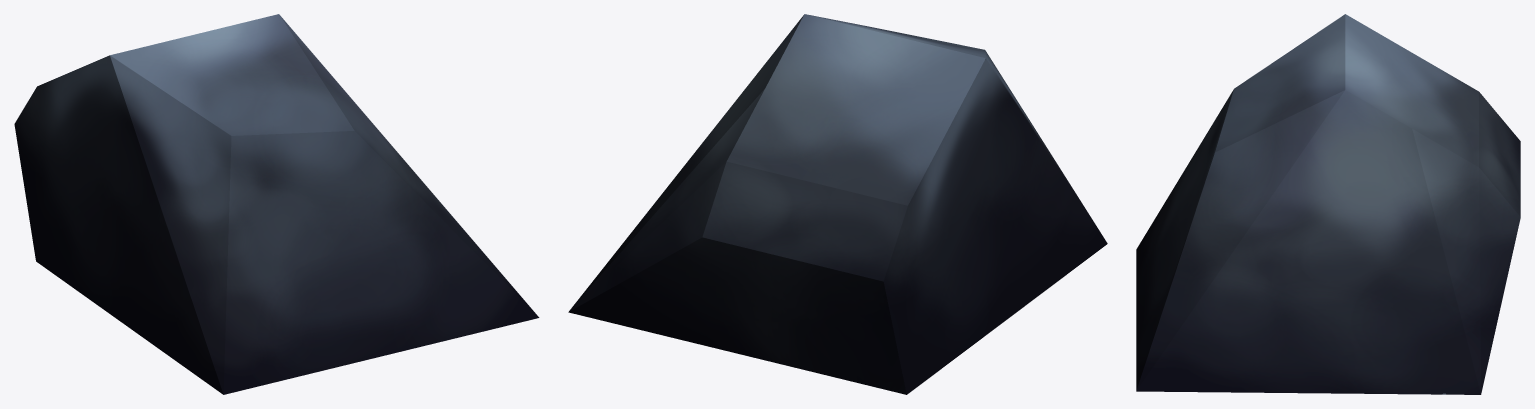
File: Rock_Prop1.fbx
3 renders of one model, left to right at view 1: azimuth 30°, elevation 25°; view 2: azimuth 150°, elevation 25°; view 3: azimuth 270°, elevation 25°, orthographic. The views are drawn at different scales.
Visible parts, largest first — view 1: Cube; view 2: Cube; view 3: Cube.
Boxes of the visible parts, x1,y1,x2,y2 form: Cube: (14,14,539,394); Cube: (568,14,1107,394); Cube: (1136,14,1520,394).
Size of the model in its own units: 200 by 157 by 229.
Materials: 1 (1 with a texture image).
